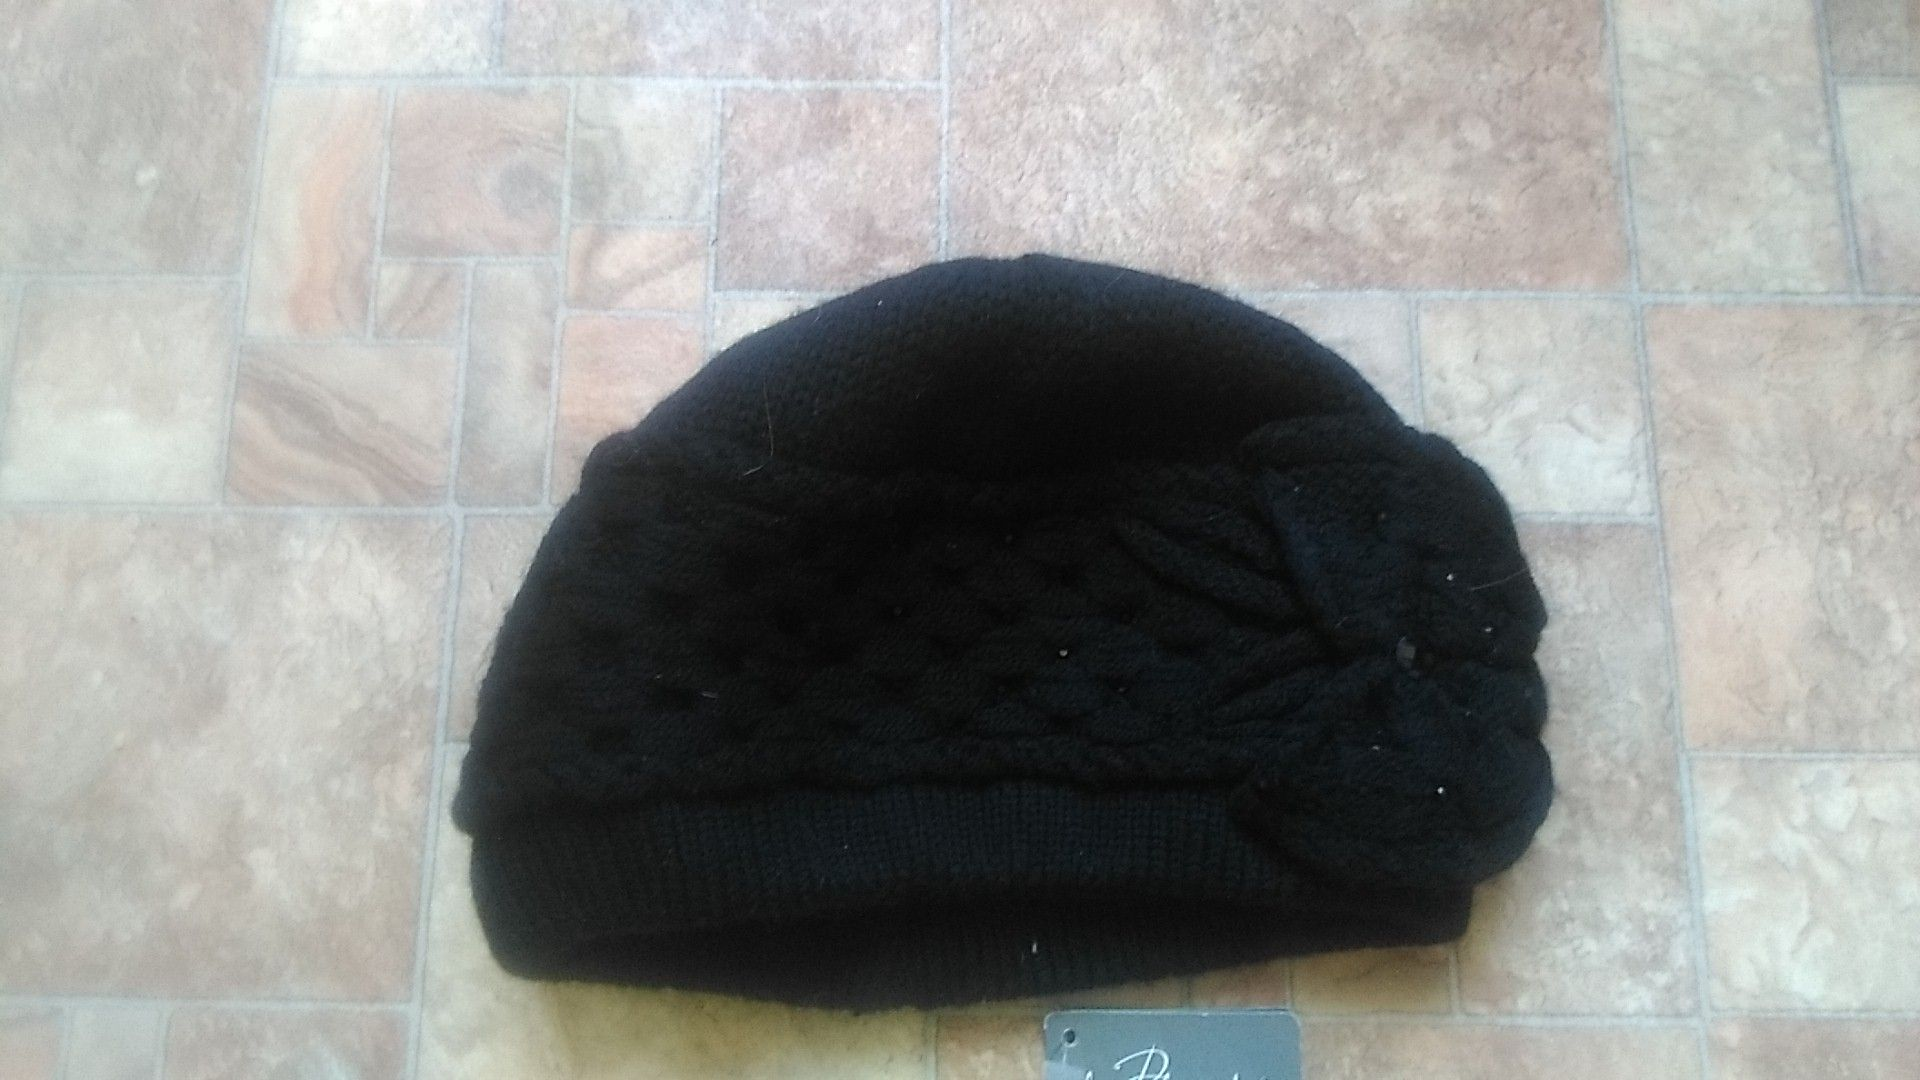clothes: (465, 255, 1565, 977)
